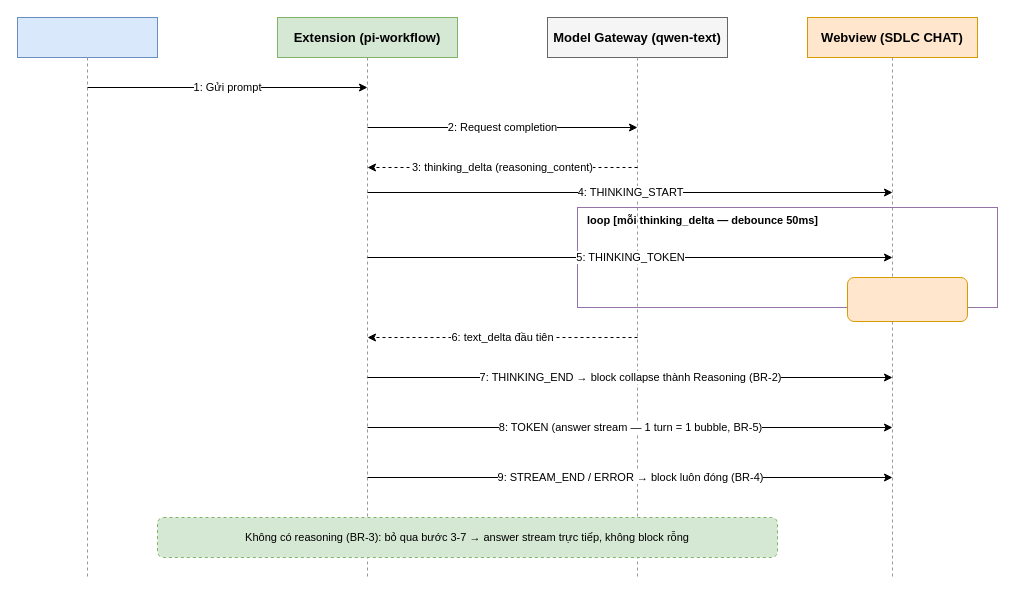
Image size: 1015x596. Some labels were removed from this diagram. The centre of each missing label's shape, as x and y in pixels:
"Developer" belongs at (x=87, y=37).
"ThinkingBlock (Thinking...) live" belongs at (x=907, y=299).
